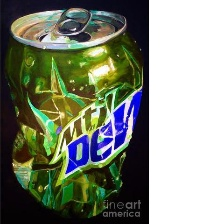can: (0, 2, 151, 221)
